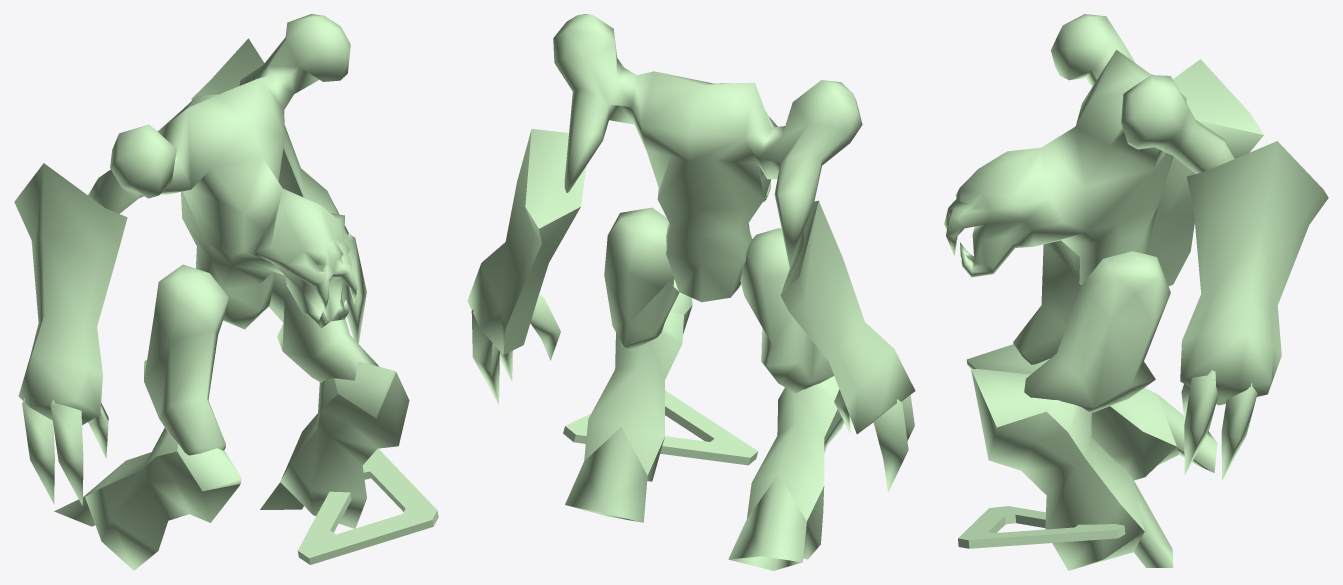
3 views of the same model, side by side, from view 1: azimuth 30°, elevation 25°; view 2: azimuth 150°, elevation 25°; view 3: azimuth 270°, elevation 25° (orthographic). The views are drawn at different scales.
Visible parts, largest first — view 1: Object72; view 2: Object72; view 3: Object72.
Part boxes in pixels (x1,y1,x2,y2): Object72: (14, 14, 438, 570); Object72: (467, 14, 915, 570); Object72: (944, 14, 1328, 570).
Bounding box in the file's own units: 155 × 194 × 133.
